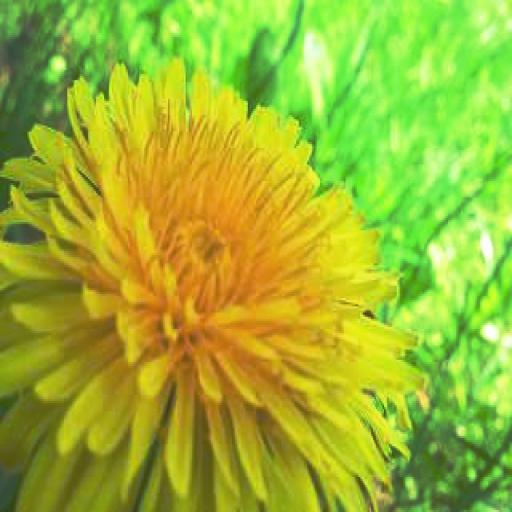daisy: (2, 0, 510, 512)
